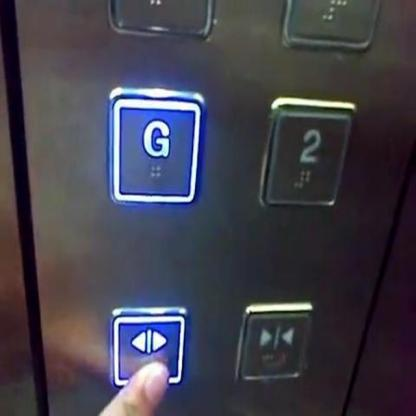2: (258, 96, 355, 209)
G: (107, 83, 206, 206)
close: (235, 303, 312, 383)
open: (108, 305, 186, 387)
